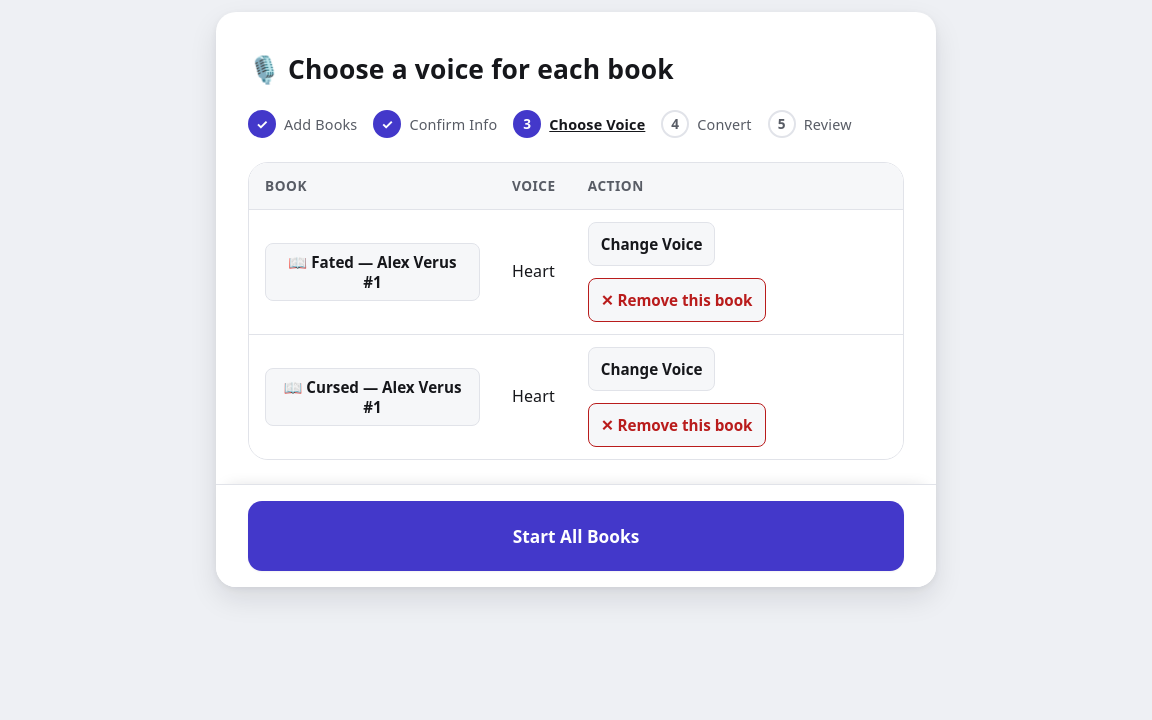
Scenario: VoiceAssignmentScreen › Change Voice opens an overlay scoped to that row only
Click the 1st button "Change Voice" at {"x": 652, "y": 244}, box [588, 222, 715, 266]
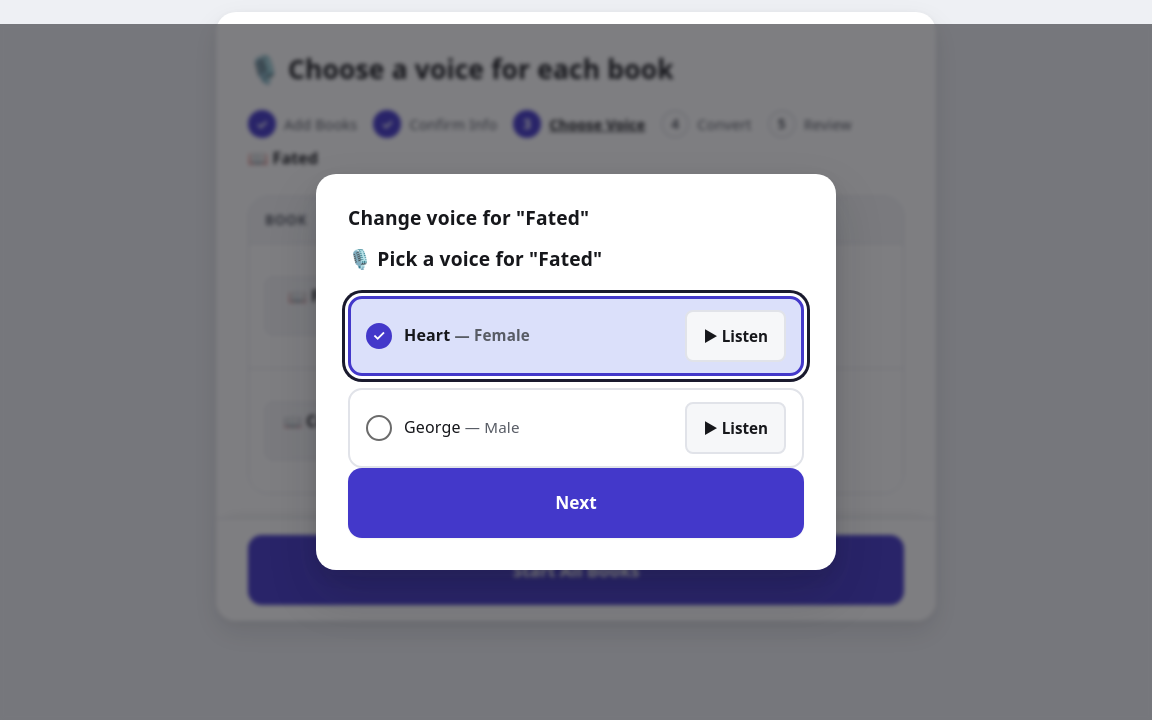
Check: the dialog "Change voice for \"Fated\"" is shown, box [316, 174, 836, 570]
